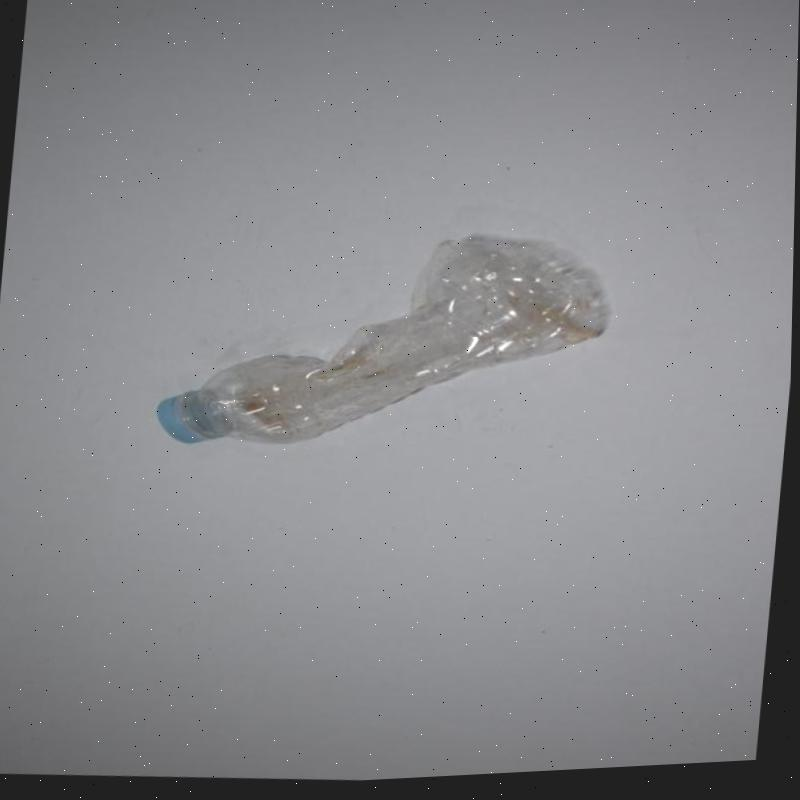botella: (152, 209, 616, 477)
